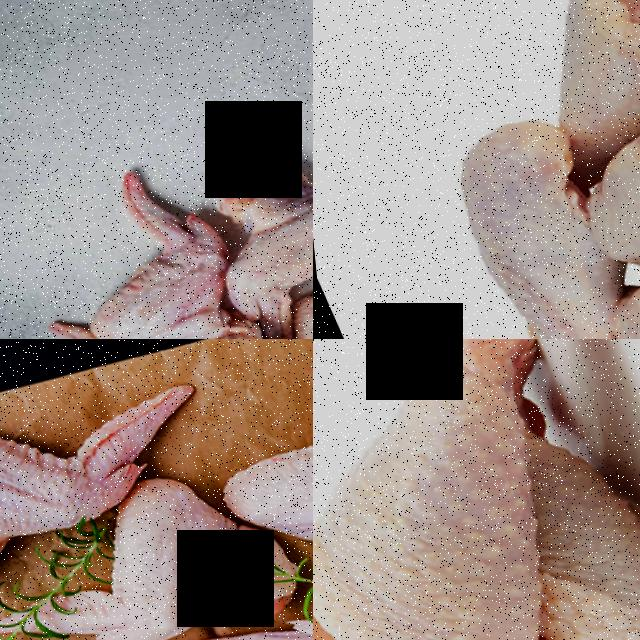chicken thigh: (313, 339, 640, 640), (410, 94, 640, 339), (486, 0, 640, 155), (542, 54, 640, 278)
chicken wing: (0, 339, 252, 637), (0, 441, 278, 640), (22, 142, 240, 339), (181, 339, 313, 622), (165, 114, 313, 316), (61, 296, 313, 339)
